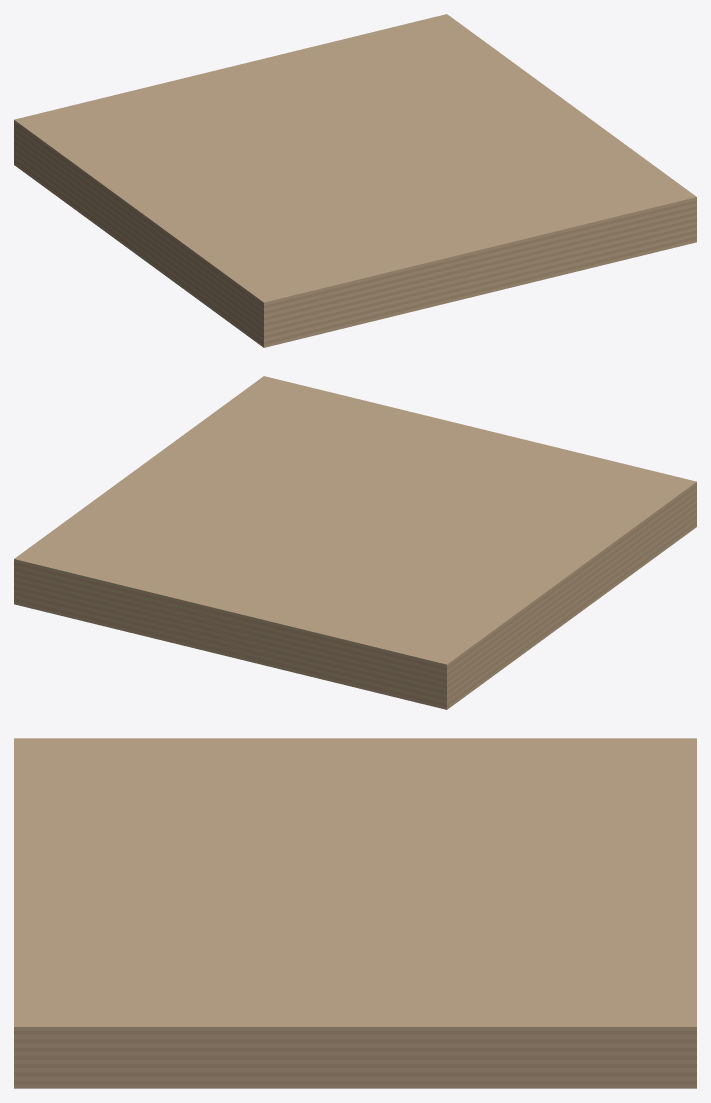
Rendered from plywood_plate_300x300x30.glb.
3 views of the same model, one above another, from view 1: azimuth 30°, elevation 25°; view 2: azimuth 150°, elevation 25°; view 3: azimuth 270°, elevation 25° (orthographic). The views are drawn at different scales.
Parts seen in each view (by area): view 1: plywood_plate_300x300x30; view 2: plywood_plate_300x300x30; view 3: plywood_plate_300x300x30.
Part boxes in pixels (x1,y1,x2,y2): plywood_plate_300x300x30: [14, 14, 696, 347]; plywood_plate_300x300x30: [14, 376, 696, 709]; plywood_plate_300x300x30: [14, 738, 696, 1088].
Bounding box in the file's own units: 0.3 × 0.03 × 0.3.
